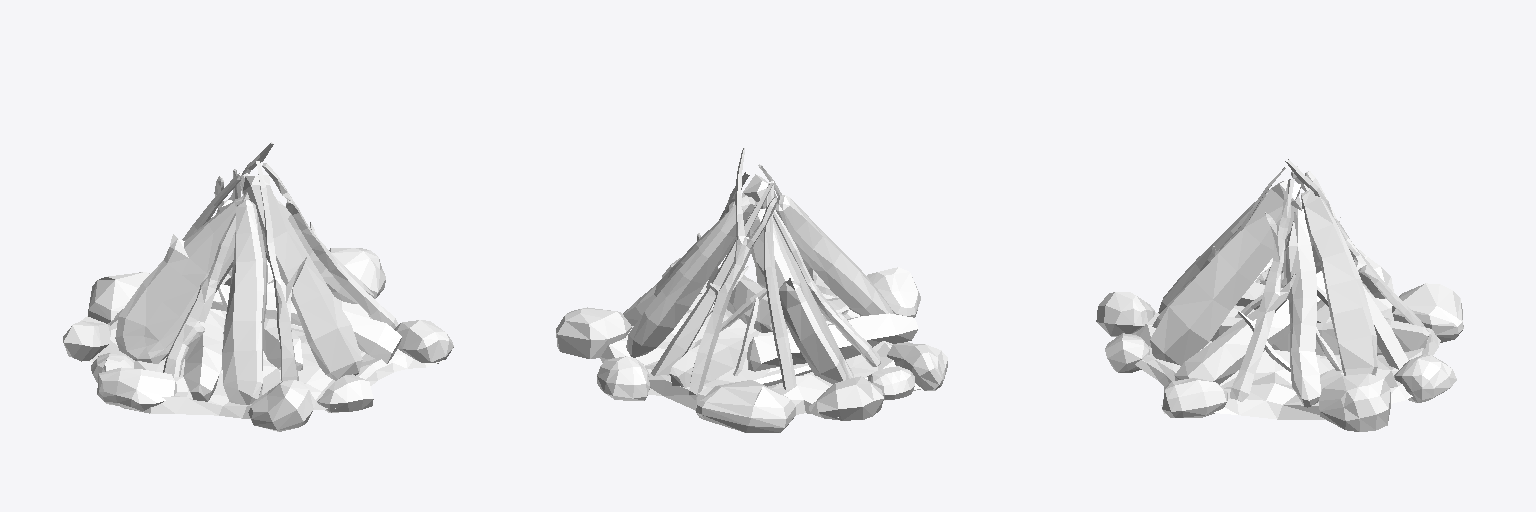
The model's file is campfire.obj.
The picture shows the model from 3 angles: view 1: azimuth 30°, elevation 25°; view 2: azimuth 150°, elevation 25°; view 3: azimuth 270°, elevation 25°; orthographic projection.
Visible parts, largest first — view 1: Campfire; view 2: Campfire; view 3: Campfire.
Part boxes in pixels (x1,y1,x2,y2): Campfire: (63, 142, 453, 431); Campfire: (556, 148, 947, 432); Campfire: (1096, 159, 1463, 431).
Size of the model in its own units: 97.99 by 60.11 by 94.05.